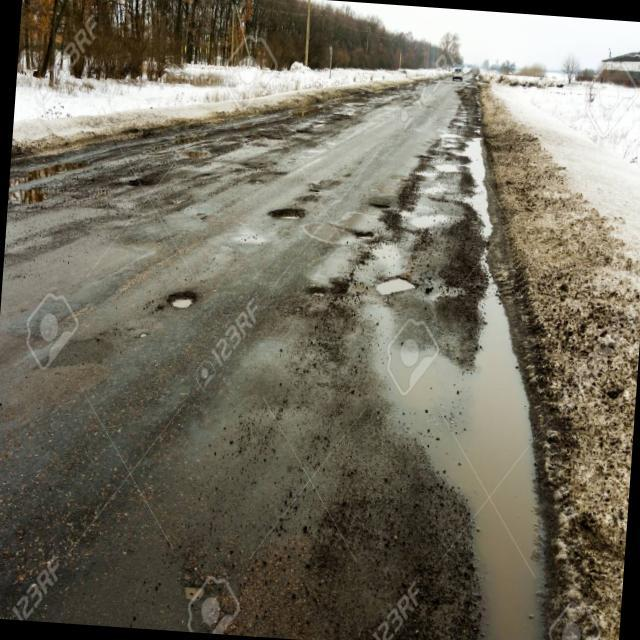Pothole: (359, 326, 471, 481), (370, 262, 420, 300), (402, 202, 448, 236), (157, 283, 199, 314), (264, 203, 308, 229), (301, 276, 335, 307), (430, 148, 459, 180), (348, 220, 380, 248)
